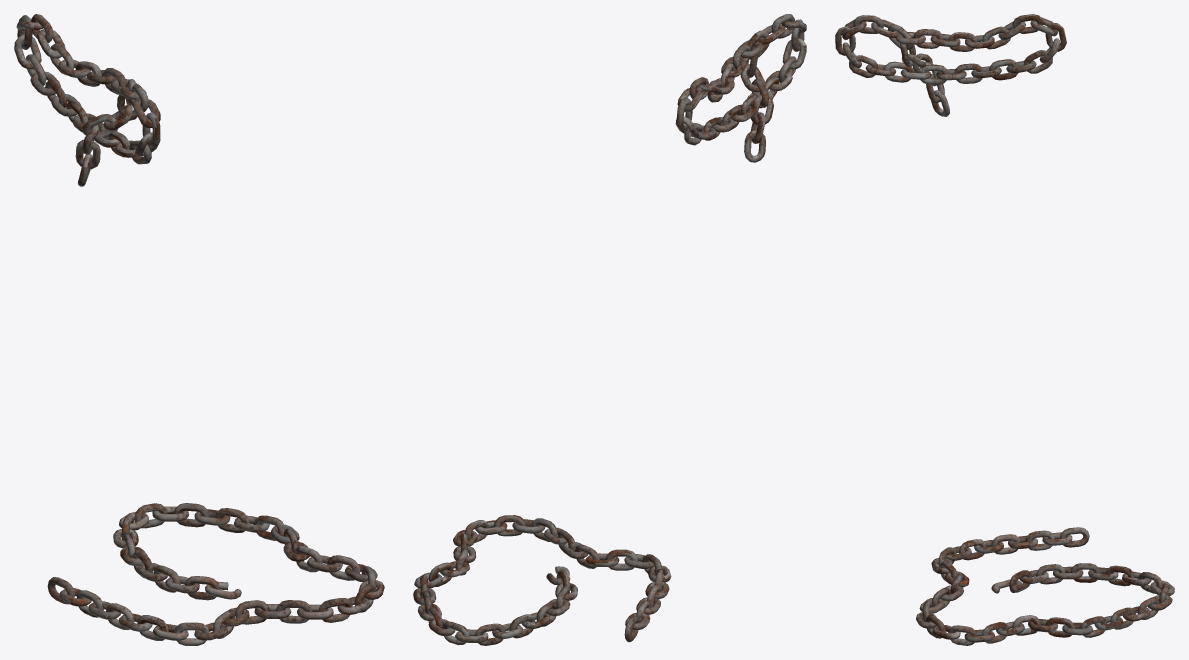
Rendered from цепиДверные.glb.
3 renders of one model, left to right at view 1: azimuth 30°, elevation 25°; view 2: azimuth 150°, elevation 25°; view 3: azimuth 270°, elevation 25°, orthographic. The views are drawn at different scales.
Visible parts, largest first — view 1: цепьНаПолу, цепьНаДВери; view 2: цепьНаПолу, цепьНаДВери; view 3: цепьНаПолу, цепьНаДВери.
Boxes of the visible parts, box(x1,y1,x2,y2) form: цепьНаПолу: box(47, 503, 384, 645); цепьНаДВери: box(14, 14, 160, 186); цепьНаПолу: box(413, 515, 671, 645); цепьНаДВери: box(675, 14, 806, 162); цепьНаПолу: box(916, 527, 1174, 645); цепьНаДВери: box(835, 14, 1066, 116).
Bounding box in the file's own units: 0.4675 × 0.8562 × 0.5133.
1 material, 1 textured.
